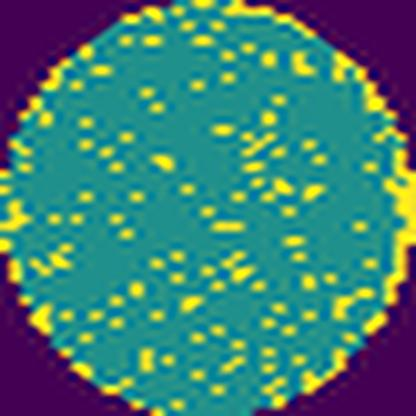Edge-Loc: (364, 138, 416, 340), (330, 47, 398, 120)
